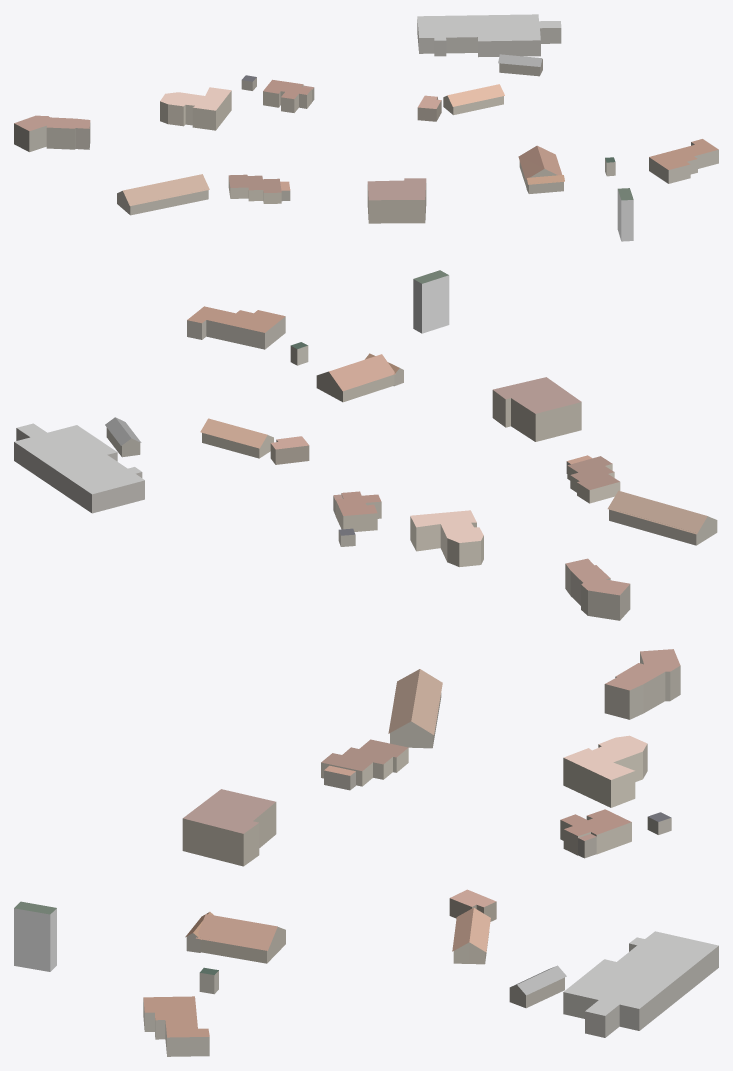
The picture shows the model from 3 angles, top to bottom: view 1: azimuth 30°, elevation 25°; view 2: azimuth 150°, elevation 25°; view 3: azimuth 270°, elevation 25°; orthographic projection. The views are drawn at different scales.
Visible parts, largest first — view 1: tuile; view 2: tuile; view 3: tuile.
Part boxes in pixels (<box>): tuile: <box>14,14,718,241</box>; tuile: <box>14,270,717,620</box>; tuile: <box>14,649,718,1056</box>.
Size of the model in its own units: 200 by 15.01 by 167.
